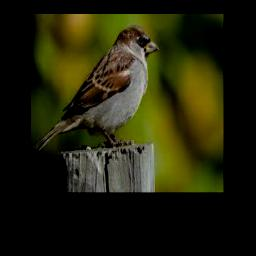Sparrow: (33, 25, 159, 151)
